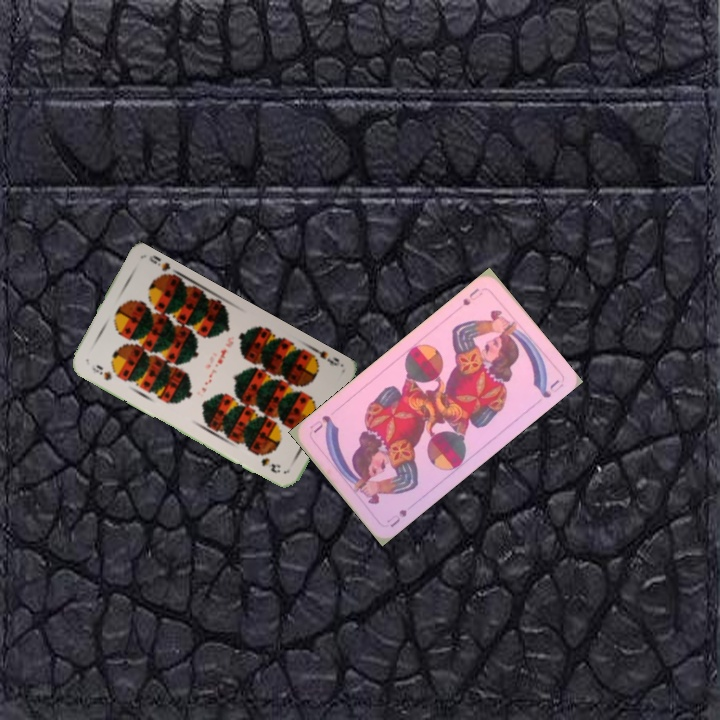S9: (306, 343, 345, 369), (88, 361, 114, 383)
SU: (382, 505, 410, 530), (458, 284, 485, 308)
